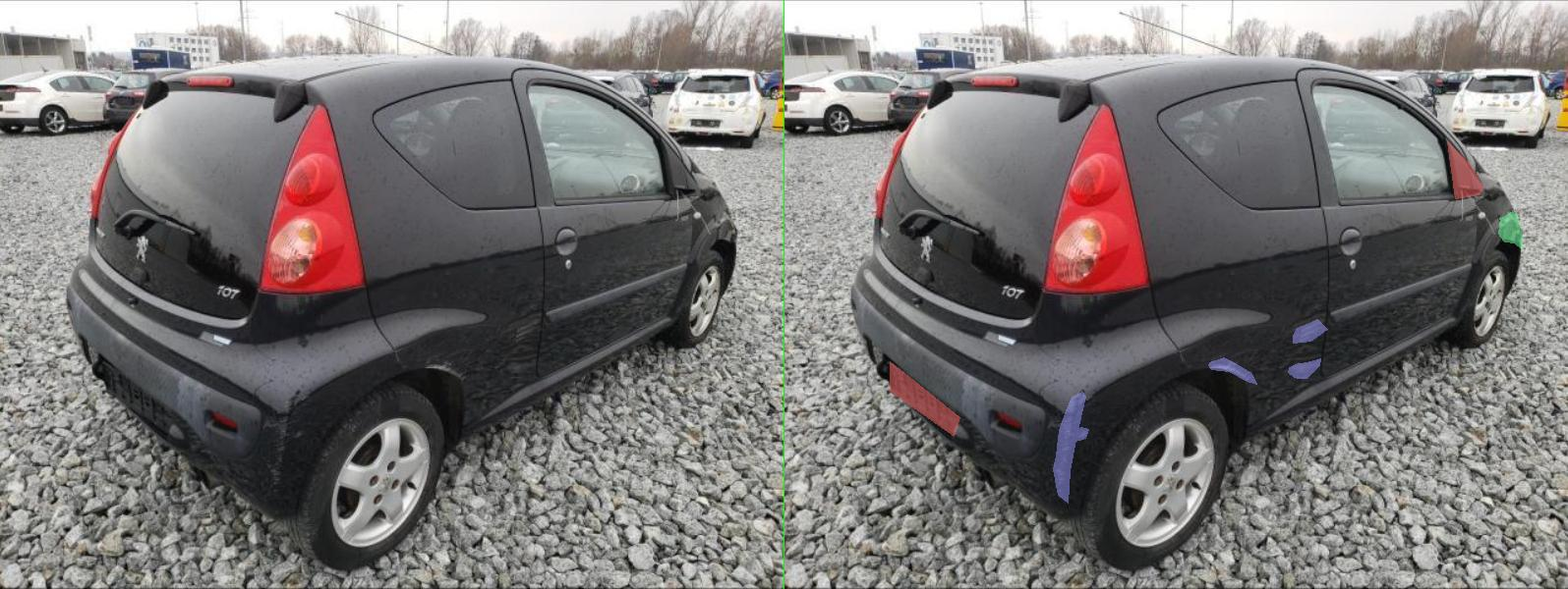Broken part: (1428, 211, 1476, 249)
Missing part: (211, 361, 350, 436), (1326, 141, 1399, 198)
Scratch: (537, 392, 602, 503), (848, 357, 944, 384), (1017, 319, 1086, 343), (1007, 358, 1072, 378), (580, 427, 608, 441)
